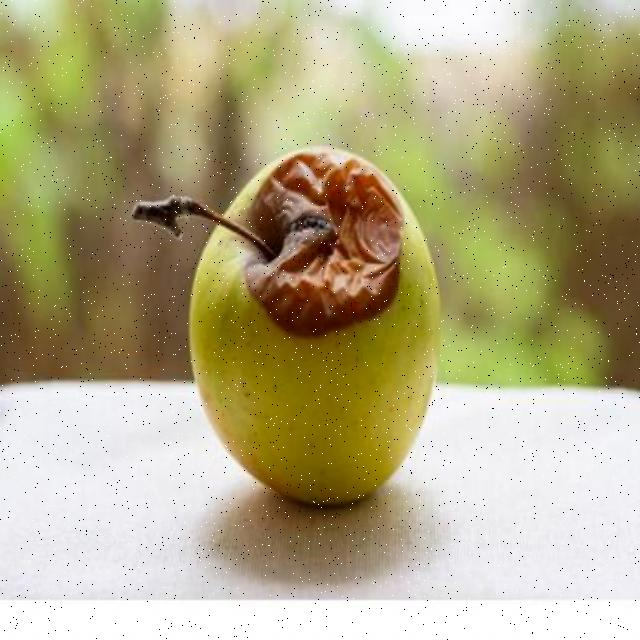ROT: (180, 126, 454, 523)
